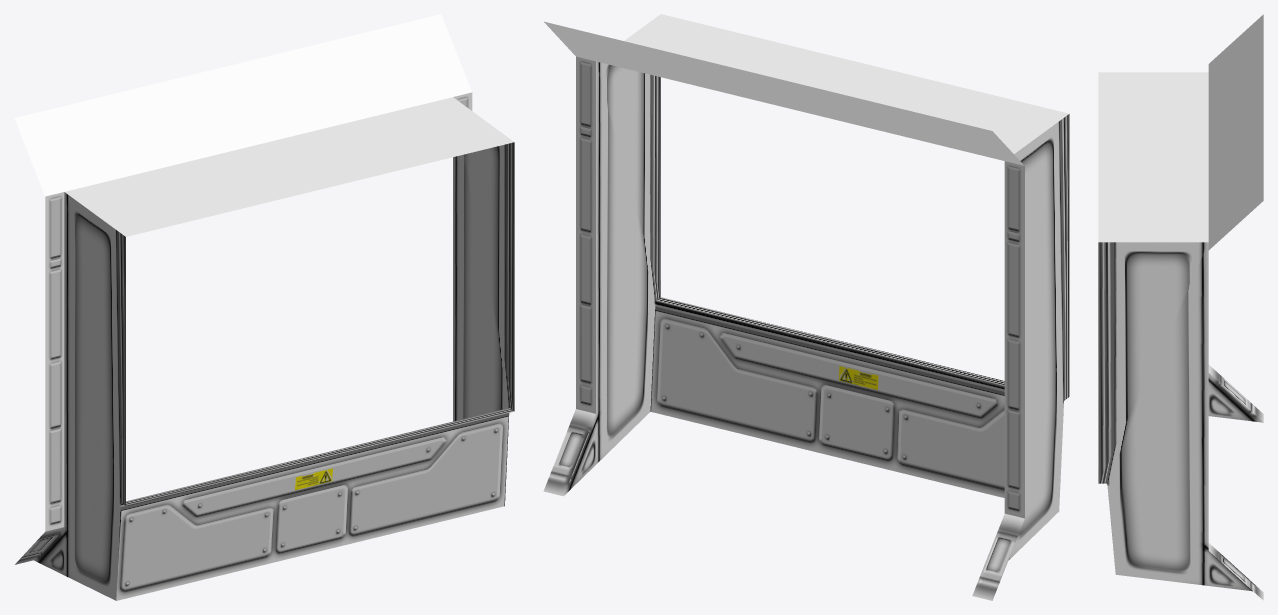
Rendered from Sect_Wall_12_Window.FBX.
3 views of the same model, side by side, from view 1: azimuth 30°, elevation 25°; view 2: azimuth 150°, elevation 25°; view 3: azimuth 270°, elevation 25° (orthographic). The views are drawn at different scales.
Visible parts, largest first — view 1: Wall_12_Window; view 2: Wall_12_Window; view 3: Wall_12_Window.
Part boxes in pixels (x1=…): Wall_12_Window: x1=14, y1=14, x2=514, y2=600; Wall_12_Window: x1=543, y1=14, x2=1069, y2=600; Wall_12_Window: x1=1098, y1=14, x2=1263, y2=600.
Size of the model in its own units: 4 by 4 by 1.5.
